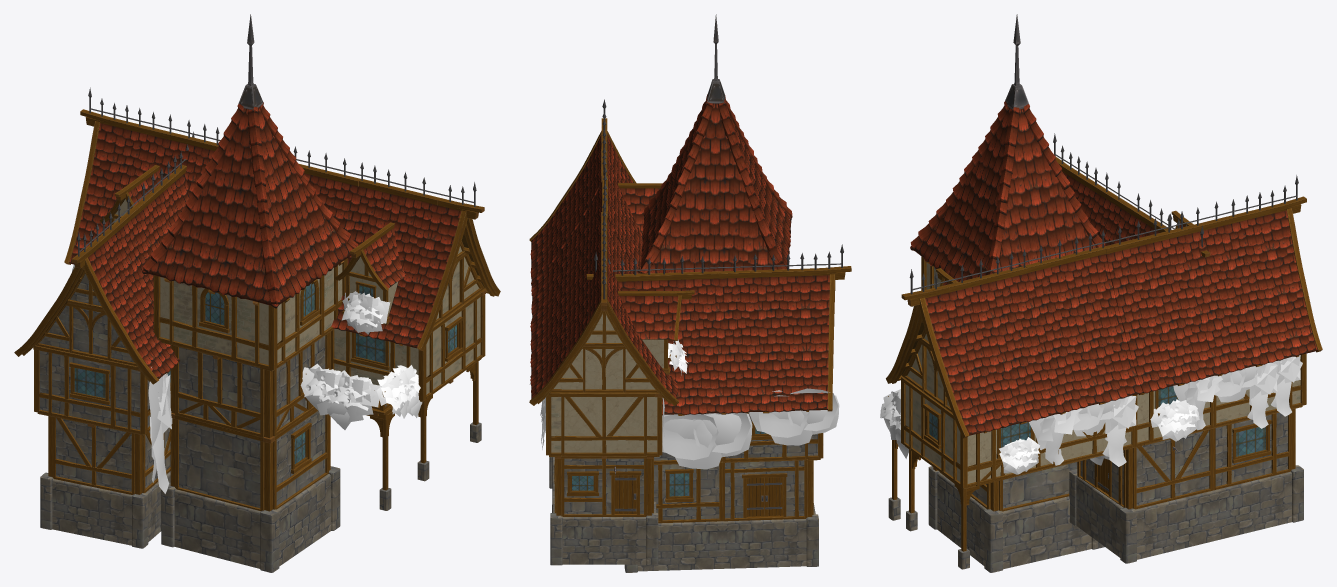
The model's file is structure.gltf.
3 views of the same model, side by side, from view 1: azimuth 30°, elevation 25°; view 2: azimuth 150°, elevation 25°; view 3: azimuth 270°, elevation 25° (orthographic). The views are drawn at different scales.
Visible parts, largest first — view 1: House_2x1_Tall_02_Merged, SM_House_Roof_01_Corner_Outer_Standard (×3), SM_House_Foundation_5x4_Corner (×3), SM_House_Wall_5x4_A_03 (×2), SM_House_Roof_01_Tiling_TopExtended (×3), SM_House_Wall_5x4_Window_C_01 (×2), SM_House_Wall_5x4_A_02, SM_House_Roof_01_Middle_Tiling_WindowFrame (×2), SM_FlowerPlanter_03 (×2), SM_House_Corner_02 (×4), SM_House_Wall_5x4_Window_A_02, SM_House_Wall_5x4_Window_A_01 (+15 smaller); view 2: House_2x1_Tall_02_Merged, SM_House_Roof_01_Corner_Outer_Standard (×4), SM_House_Roof_01_Tiling_Base (×4), SM_Vine_01_LOD0 (×2), SM_House_Roof_01_Tiling_TopExtended (×8), SM_House_Wall_5x4_A_01, SM_House_Foundation_5x4_Corner (×2), SM_House_Roof_01_Middle_Tiling_WindowFrame (×2), SM_House_Wall_5x4_Door_A_01 (1), SM_House_Corner_02 (×2), SM_House_Roof_01_WallMiddle_A_01, SM_House_Roof_01_End_Base (×2) (+9 smaller); view 3: SM_House_Roof_01_Tiling_Base (×4), SM_House_Roof_01_Tiling_TopExtended (×4), SM_House_Roof_01_Corner_Outer_Standard (×3), SM_House_Foundation_5x4_Corner (×5), SM_House_Wall_5x4_A_01 (×3), SM_House_Wall_5x4_Window_B_01 (×3), House_2x1_Tall_02_Merged, SM_House_Roof_Beam_Tiling (×4), SM_House_Foundation_5x4, SM_Vine_02_LOD0 (×3), SM_House_Wall_5x4_Window_A_01, SM_House_Roof_01_End_Base_Mirrored (×2) (+18 smaller).
Boxes of the visible parts, <box> form: House_2x1_Tall_02_Merged: <box>14,131,194,548</box>; SM_House_Roof_01_Corner_Outer_Standard (×3): <box>142,102,358,308</box>; SM_House_Foundation_5x4_Corner (×3): <box>161,466,340,572</box>; SM_House_Wall_5x4_A_03 (×2): <box>175,333,328,437</box>; SM_House_Roof_01_Tiling_TopExtended (×3): <box>111,129,437,261</box>; SM_House_Wall_5x4_Window_C_01 (×2): <box>169,265,337,365</box>; SM_House_Wall_5x4_A_02: <box>175,415,264,511</box>; SM_House_Roof_01_Middle_Tiling_WindowFrame (×2): <box>96,165,424,345</box>; SM_FlowerPlanter_03 (×2): <box>300,363,422,429</box>; SM_House_Corner_02 (×4): <box>153,275,485,400</box>; SM_House_Wall_5x4_Window_A_02: <box>273,408,328,509</box>; SM_House_Wall_5x4_Window_A_01: <box>429,295,476,394</box>; House_2x1_Tall_02_Merged: <box>586,244,851,572</box>; SM_House_Roof_01_Corner_Outer_Standard (×4): <box>639,94,792,273</box>; SM_House_Roof_01_Tiling_Base (×4): <box>530,189,577,392</box>; SM_Vine_01_LOD0 (×2): <box>662,388,839,469</box>; SM_House_Roof_01_Tiling_TopExtended (×8): <box>577,145,632,332</box>; SM_House_Wall_5x4_A_01: <box>561,392,646,455</box>; SM_House_Foundation_5x4_Corner (×2): <box>550,478,658,565</box>; SM_House_Roof_01_Middle_Tiling_WindowFrame (×2): <box>618,183,694,392</box>; SM_House_Wall_5x4_Door_A_01 (1): <box>561,457,646,516</box>; SM_House_Corner_02 (×2): <box>546,392,662,455</box>; SM_House_Roof_01_WallMiddle_A_01: <box>583,346,625,392</box>; SM_House_Roof_01_End_Base (×2): <box>529,177,678,405</box>; SM_House_Roof_01_Tiling_Base (×4): <box>961,273,1300,433</box>; SM_House_Roof_01_Tiling_TopExtended (×4): <box>949,216,1275,349</box>; SM_House_Roof_01_Corner_Outer_Standard (×3): <box>910,101,1105,281</box>; SM_House_Foundation_5x4_Corner (×5): <box>928,465,1303,572</box>; SM_House_Wall_5x4_A_01 (×3): <box>1058,382,1292,509</box>; SM_House_Wall_5x4_Window_B_01 (×3): <box>980,390,1291,490</box>; House_2x1_Tall_02_Merged: <box>1053,133,1210,257</box>; SM_House_Roof_Beam_Tiling (×4): <box>945,192,1262,292</box>; SM_House_Foundation_5x4: <box>1136,490,1214,559</box>; SM_Vine_02_LOD0 (×3): <box>1102,355,1302,466</box>; SM_House_Wall_5x4_Window_A_01: <box>909,383,956,481</box>; SM_House_Roof_01_End_Base_Mirrored (×2): <box>886,266,1322,383</box>.
Size of what is drawn, in the model's own units: 25.7 by 31.64 by 24.34.
19 materials, 15 textured.
